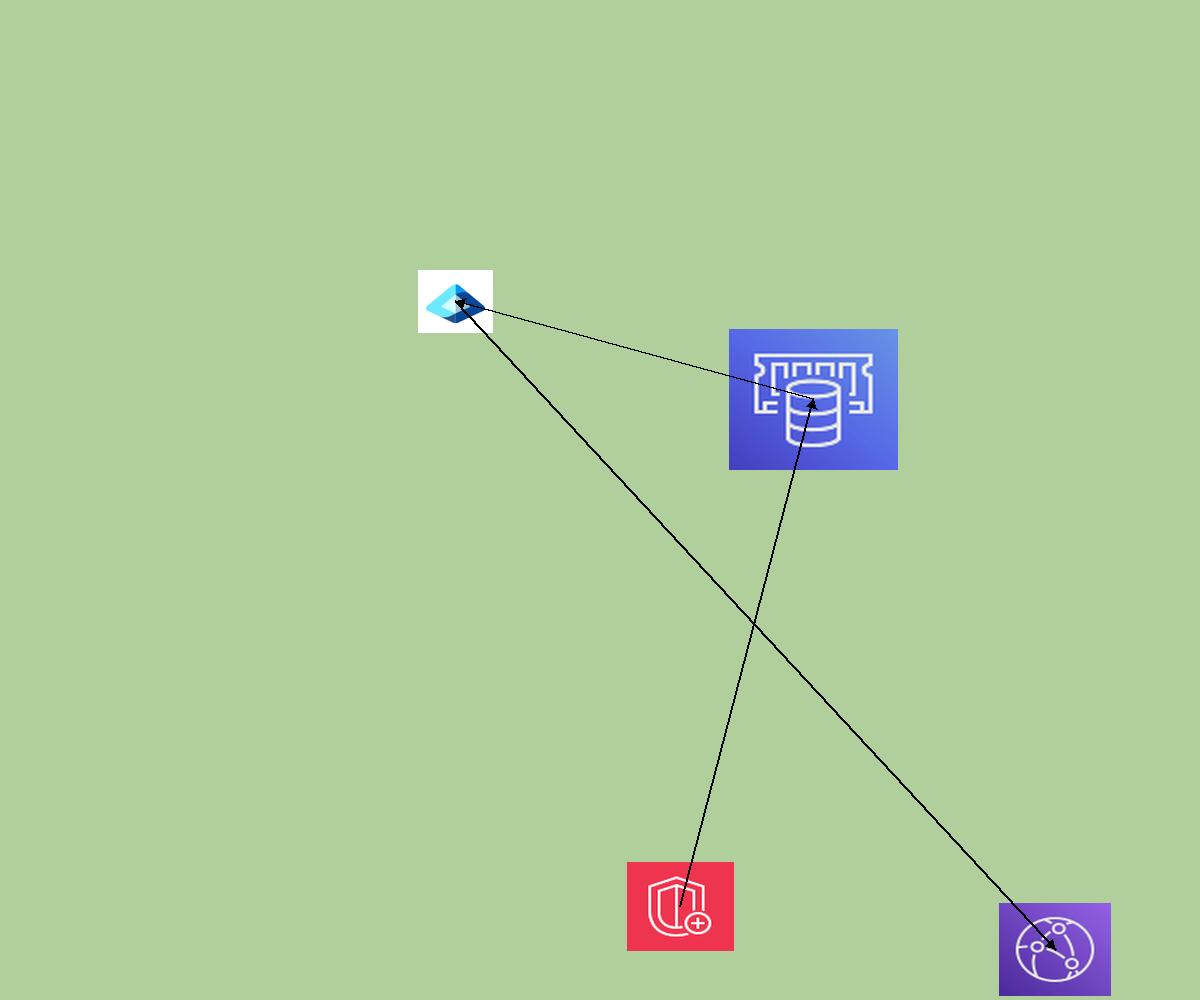AWS-CloudFront: (999, 903, 1111, 996)
AWS-ElastiCache: (729, 329, 898, 470)
AWS-Shield: (627, 862, 734, 951)
Azure_microsoft_entra: (418, 270, 493, 333)
